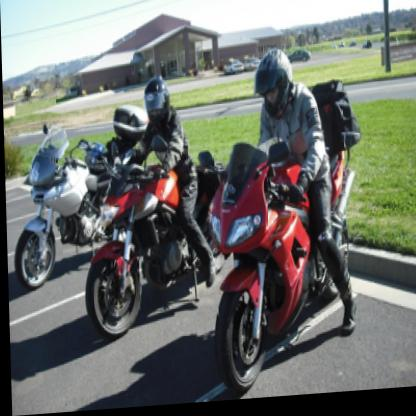With Helmet: (248, 50, 300, 128), (138, 76, 177, 135)
